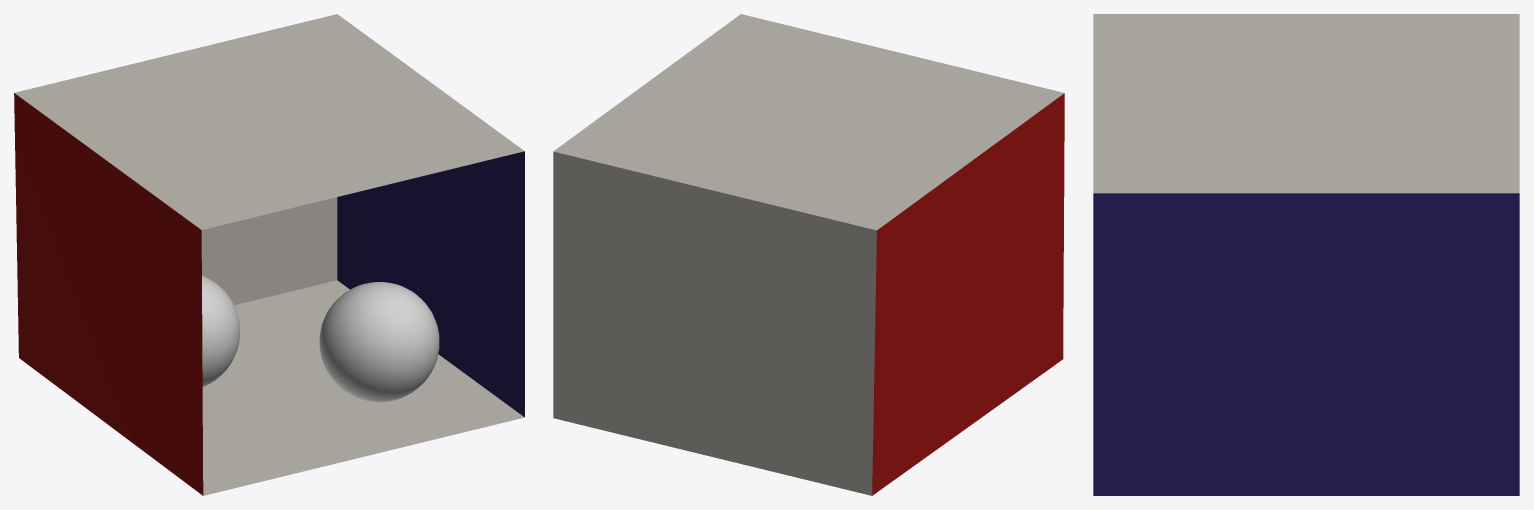
Rendered from CornellBox-Sphere2.obj.
3 renders of one model, left to right at view 1: azimuth 30°, elevation 25°; view 2: azimuth 150°, elevation 25°; view 3: azimuth 270°, elevation 25°, orthographic. The views are drawn at different scales.
Parts seen in each view (by area): view 1: ceiling, leftWall, floor, rightWall, rightSphere, backWall, leftSphere; view 2: backWall, ceiling, leftWall; view 3: rightWall, ceiling.
Part boxes in pixels (x1,y1,x2,y2): ceiling: [14, 14, 524, 229]; leftWall: [14, 93, 203, 495]; floor: [202, 280, 524, 495]; rightWall: [337, 151, 524, 417]; rightSphere: [319, 282, 439, 402]; backWall: [201, 197, 337, 305]; leftSphere: [202, 275, 239, 386]; backWall: [553, 151, 876, 495]; ceiling: [553, 14, 1064, 230]; leftWall: [872, 93, 1064, 495]; rightWall: [1093, 193, 1519, 495]; ceiling: [1093, 14, 1519, 193].
Size of the model in its own units: 2.02 by 1.59 by 2.03.
